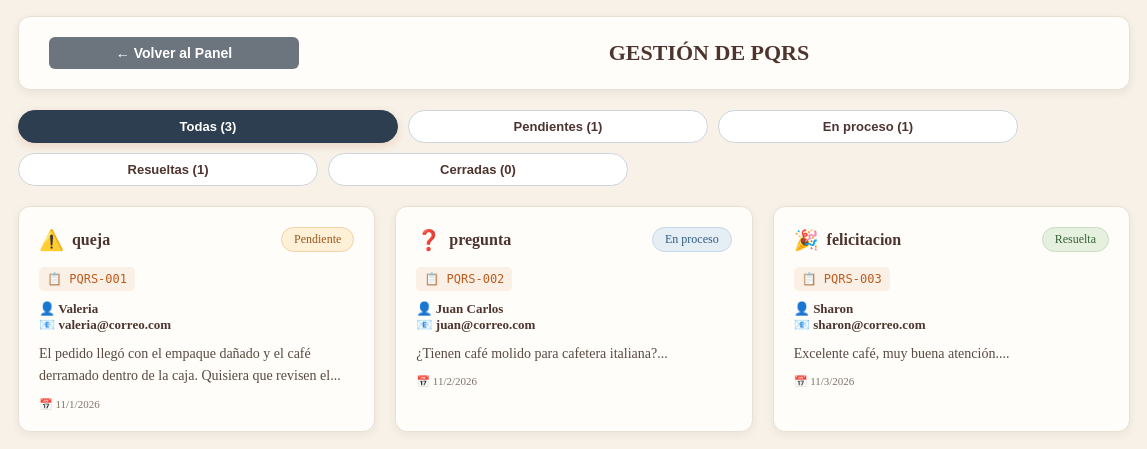
Test case: VerPqrs - ver PQRS › filtros › filtrar por "Pendientes" deja solo las pendientes
This screenshot has width=1147, height=449.
Expected: the heading "GESTIÓN DE PQRS" is shown, [609, 40, 809, 65]
Click the button "Pendientes (1)" at (558, 126), box [408, 110, 708, 143]
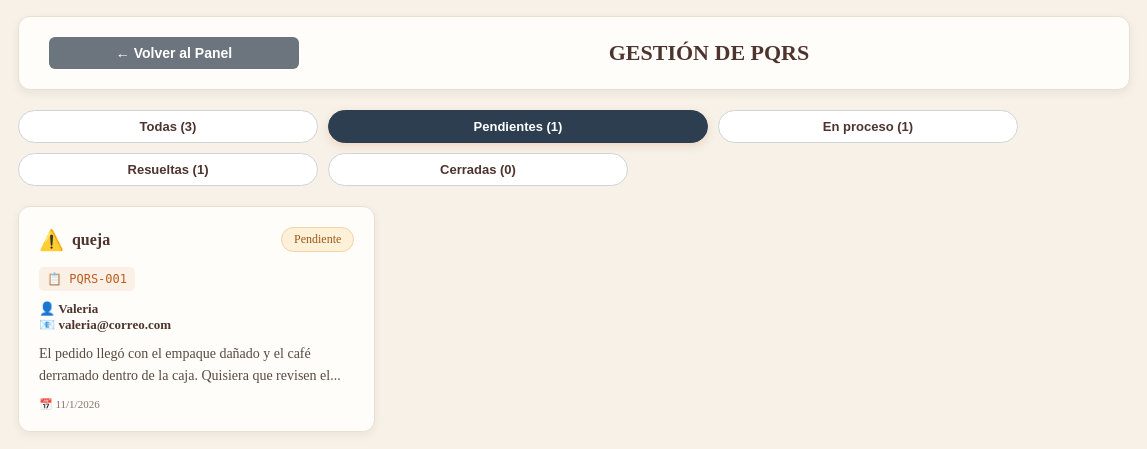
Expected: the text "📋 PQRS-001" is shown, [39, 267, 135, 291]
Now the text "PQRS-002" is gone
Now the text "PQRS-003" is gone
